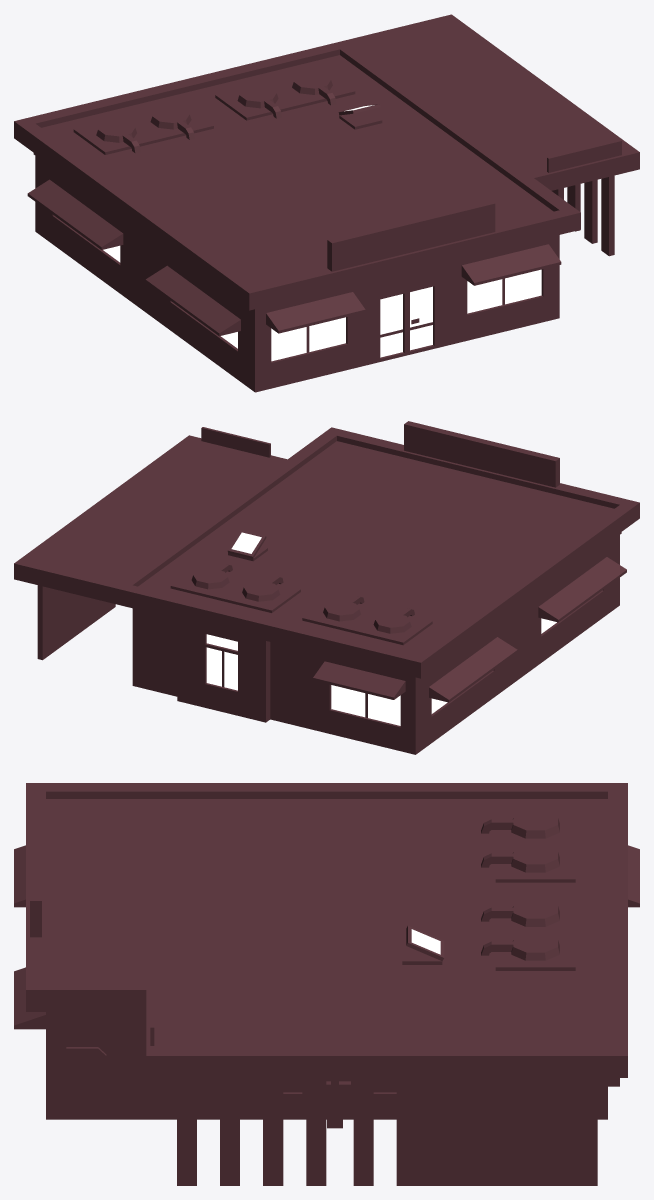
Rendered from buildings-building-burger-joint.glb.
3 renders of one model, top to bottom at view 1: azimuth 30°, elevation 25°; view 2: azimuth 150°, elevation 25°; view 3: azimuth 270°, elevation 25°, orthographic. The views are drawn at different scales.
Parts seen in each view (by area): view 1: building-burger-joint; view 2: building-burger-joint; view 3: building-burger-joint.
Part boxes in pixels (left/top/right/bottom): building-burger-joint: left=14, top=14, right=639, bottom=392; building-burger-joint: left=14, top=421, right=639, bottom=754; building-burger-joint: left=14, top=783, right=639, bottom=1185.
Size of the model in its own units: 16.4 by 4.8 by 15.6.
